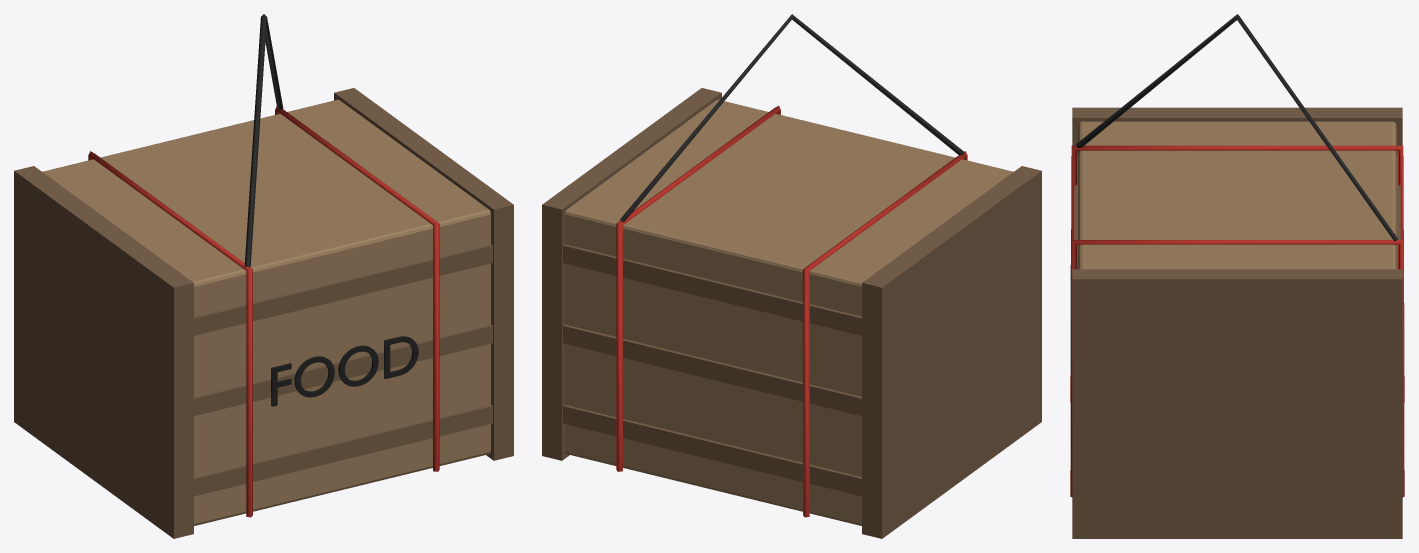
Rendered from crate-food.glb.
3 renders of one model, left to right at view 1: azimuth 30°, elevation 25°; view 2: azimuth 150°, elevation 25°; view 3: azimuth 270°, elevation 25°, orthographic. The views are drawn at different scales.
Parts seen in each view (by area): view 1: crate-food; view 2: crate-food; view 3: crate-food.
Boxes of the visible parts, bbox=[...] form: crate-food: bbox=[14, 14, 513, 538]; crate-food: bbox=[542, 14, 1041, 538]; crate-food: bbox=[1070, 14, 1404, 538].
Bounding box in the file's own units: 1.02 × 1.22 × 0.84.
